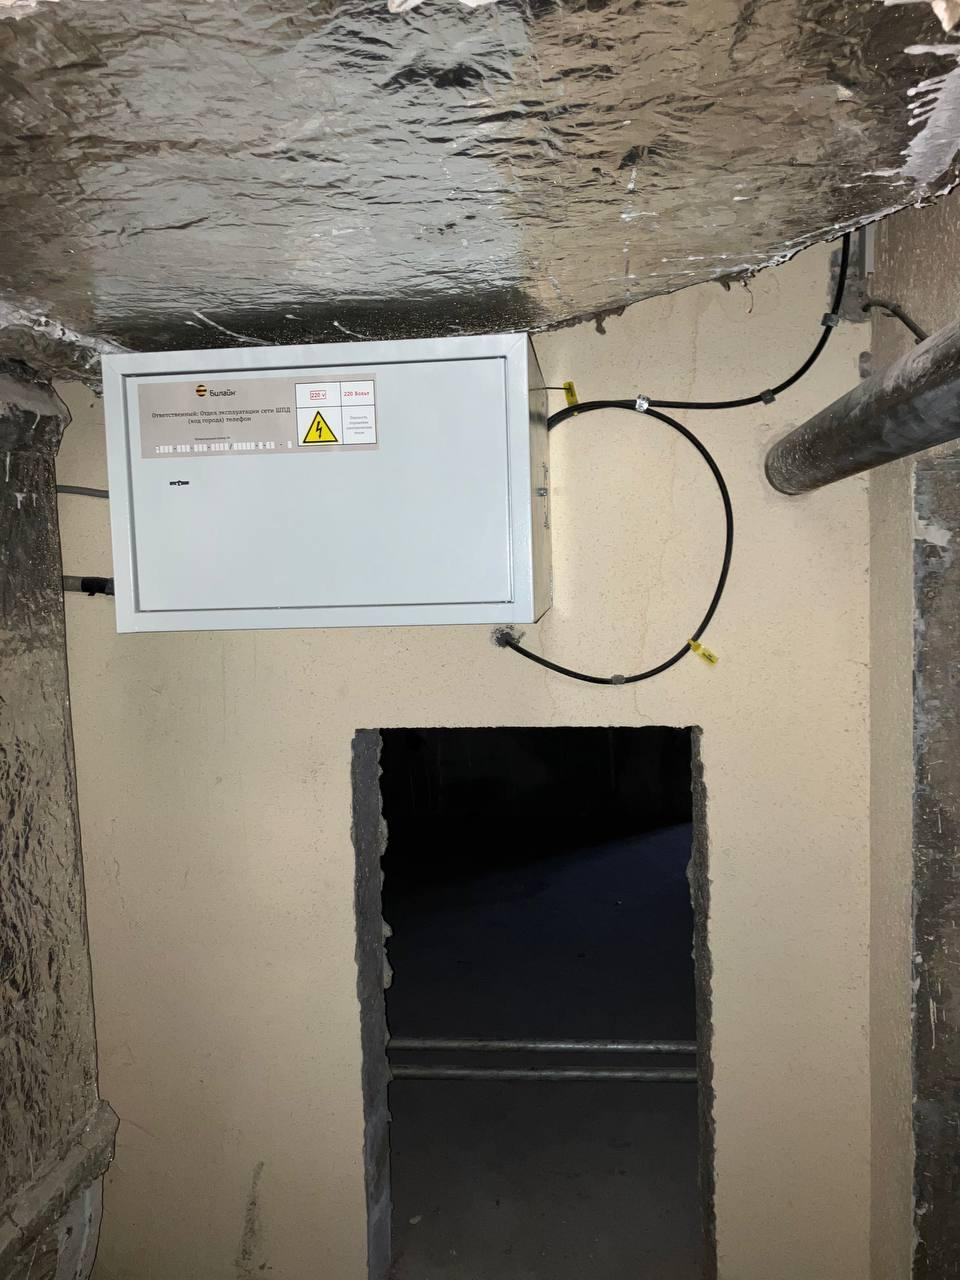shta-7m: (93, 312, 560, 643)
